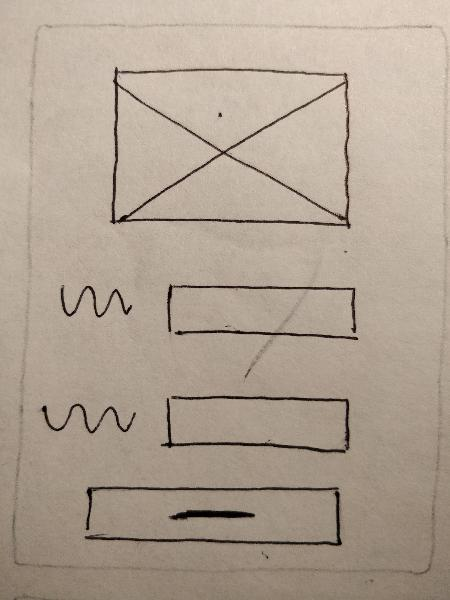button: (77, 473, 347, 556)
image: (102, 55, 366, 245)
text: (50, 265, 143, 344), (30, 391, 142, 451)
text_input: (159, 273, 368, 347), (153, 388, 360, 457)
